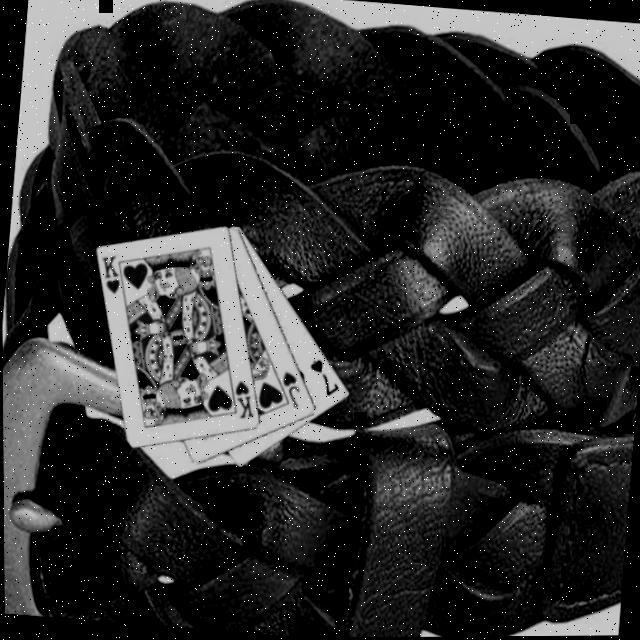7S: (302, 354, 341, 397)
JH: (275, 367, 302, 409)
KH: (227, 375, 257, 421), (94, 250, 124, 296)
